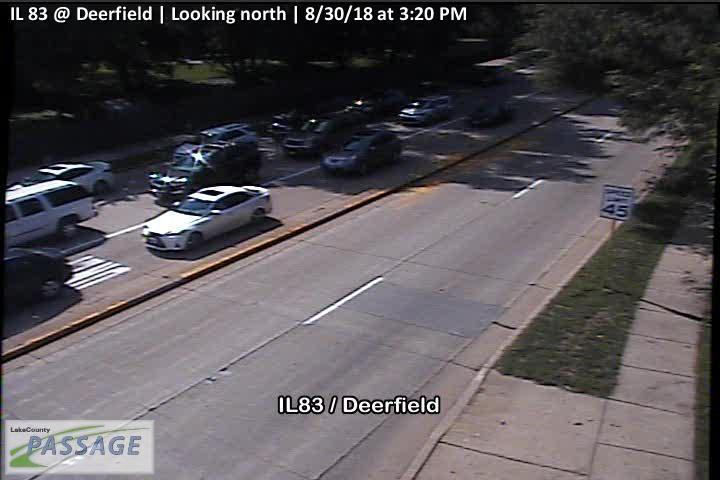SUV: (146, 141, 261, 207), (4, 176, 99, 247), (281, 117, 361, 160), (398, 96, 452, 126)
Sedan: (140, 182, 272, 252), (319, 131, 402, 178), (8, 161, 115, 197)
